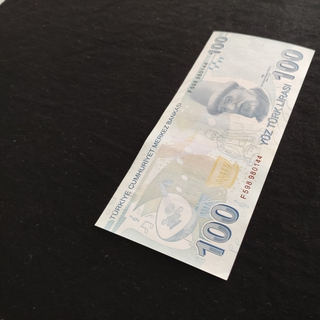100TLBack: (93, 28, 316, 282)
